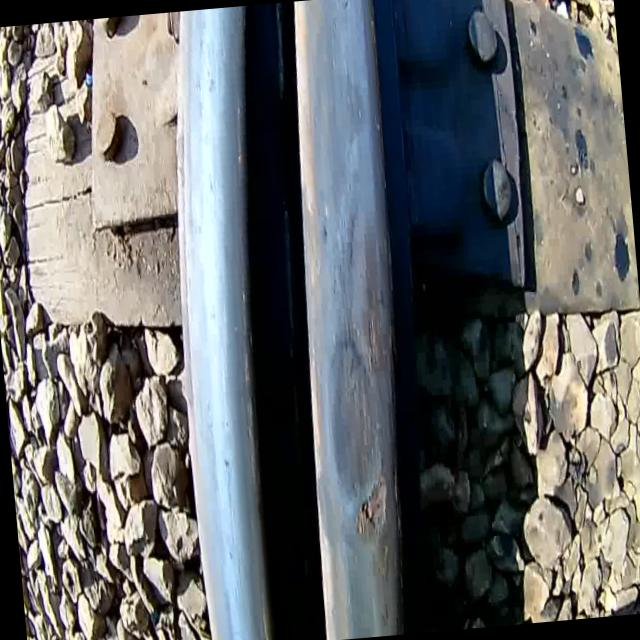Flakings: (202, 5, 306, 640)
Spallings: (326, 461, 414, 565), (350, 310, 396, 388)
Squats: (320, 331, 388, 504)
